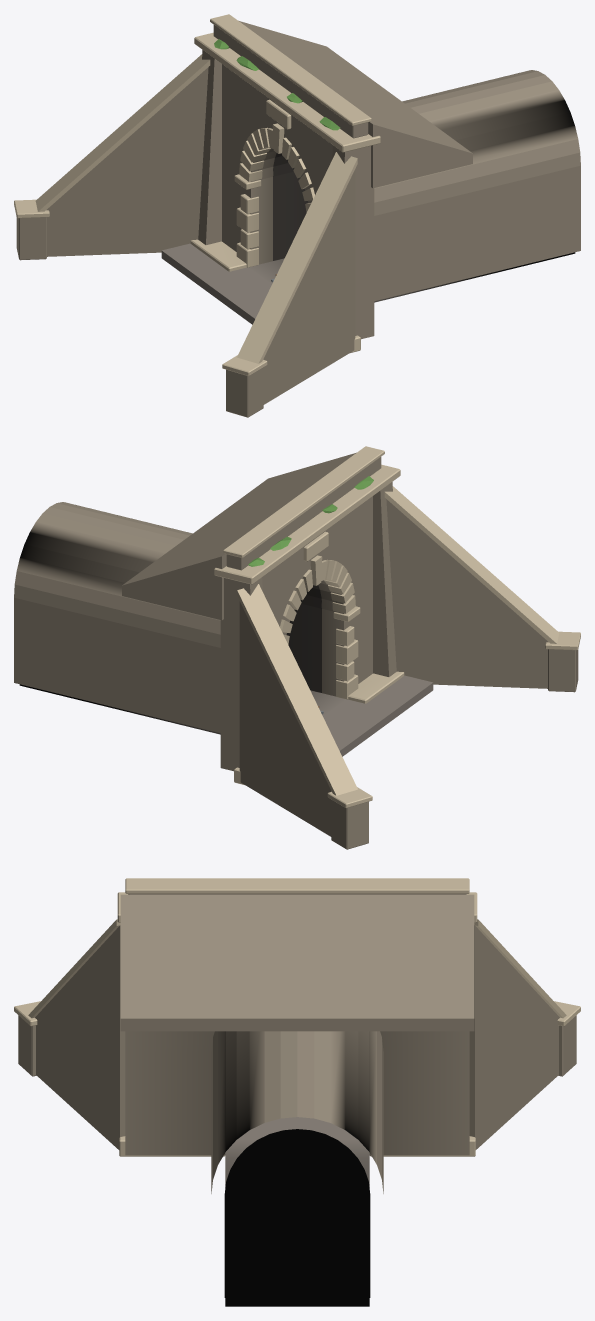
File: sm_env_rail_tunnel_portal.glb
The picture shows the model from 3 angles, top to bottom: view 1: azimuth 30°, elevation 25°; view 2: azimuth 150°, elevation 25°; view 3: azimuth 270°, elevation 25°; orthographic projection. The views are drawn at different scales.
Parts seen in each view (by area): view 1: BoreShell, WingWall.001, PortalFacade, WingWall, Backfill, WingCoping, Apron, Pilaster.001, Cornice, WingCoping.001, ParapetCoping, BoreLining (+7 smaller); view 2: BoreShell, WingWall, PortalFacade, WingWall.001, Backfill, WingCoping.001, Apron, Pilaster, Cornice, WingCoping, ParapetCoping, BoreLining (+7 smaller); view 3: Backfill, BoreEnd, PortalFacade, BoreShell, WingWall, WingWall.001, ParapetCoping, BoreBallast, Apron, WingCoping, WingCoping.001, WingPier (+1 smaller).
Part boxes in pixels (x1,y1,x2,y2): BoreShell: (374,70,580,301); WingWall.001: (46,67,208,256); PortalFacade: (222,64,374,339); WingWall: (263,169,355,404); Backfill: (238,20,472,188); WingCoping: (237,152,357,363); Apron: (161,243,271,324); Pilaster.001: (198,50,221,244); Cornice: (194,32,380,152); WingCoping.001: (35,54,210,211); ParapetCoping: (210,14,371,125); BoreLining: (273,153,308,260); BoreShell: (14,502,220,733); WingWall: (386,499,548,688); PortalFacade: (220,496,372,771); WingWall.001: (239,601,331,836); Backfill: (122,452,356,620); WingCoping.001: (237,584,357,795); Apron: (323,675,433,756); Pilaster: (373,482,396,676); Cornice: (214,464,400,584); WingCoping: (384,486,559,643); ParapetCoping: (223,446,384,557); BoreLining: (286,585,321,692); Backfill: (120,894,474,1031); BoreEnd: (224,1129,370,1297); PortalFacade: (125,1031,469,1155); BoreShell: (211,1031,383,1193); WingWall: (35,925,125,1149); WingWall.001: (469,925,559,1149); ParapetCoping: (125,878,469,893); BoreBallast: (225,1139,369,1306); Apron: (237,1117,357,1139); WingCoping: (28,919,120,1018); WingCoping.001: (474,919,566,1018); WingPier: (18,1015,36,1076).
Size of the model in its own units: 19.33 by 9.88 by 18.44.
